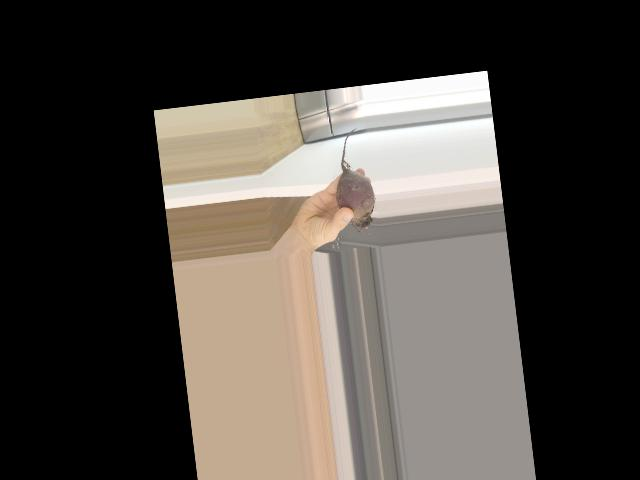beet: (329, 127, 379, 235)
